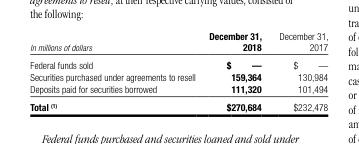table: (29, 29, 327, 112)
table column: (29, 29, 201, 112), (201, 29, 269, 112), (269, 29, 327, 112)
table column header: (29, 29, 327, 55)
table row: (29, 29, 327, 55), (29, 55, 327, 70), (29, 82, 327, 97), (29, 97, 327, 112), (29, 70, 327, 82)
